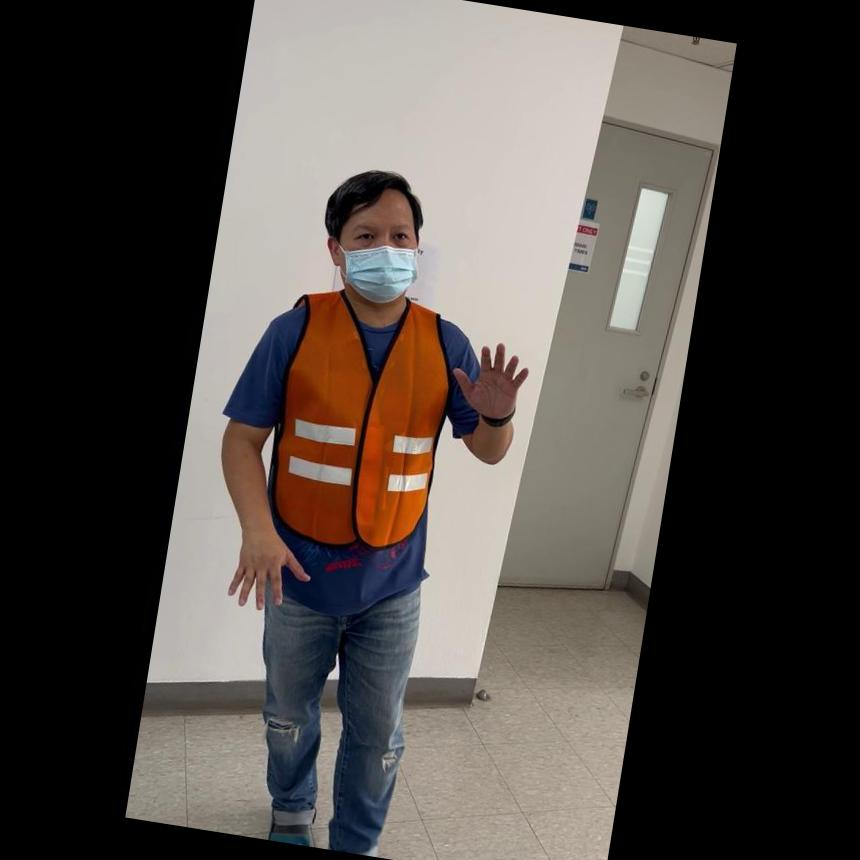No-gloves: (444, 329, 532, 426), (220, 520, 308, 616)
